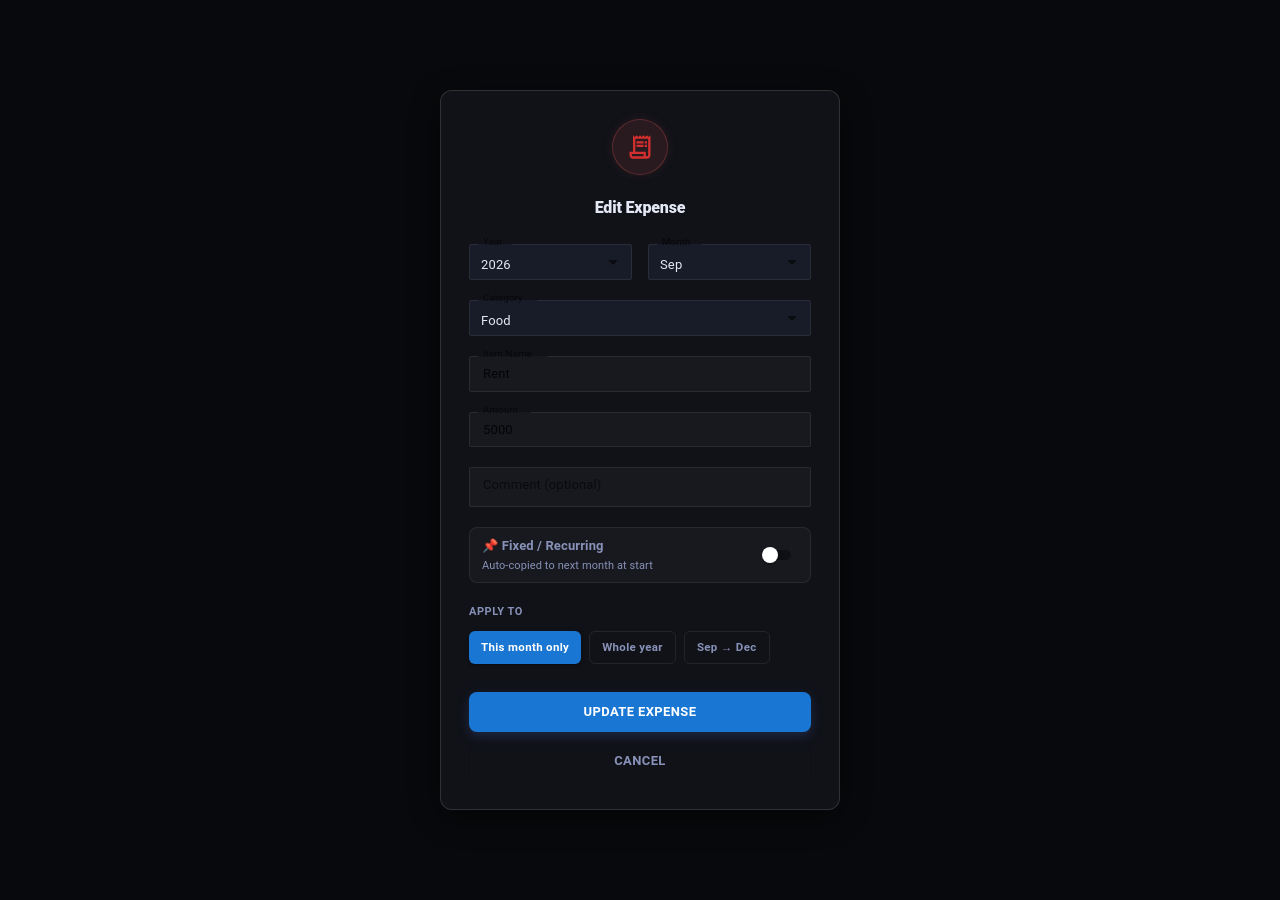
Test: AddExpenseModal amount expressions › says so when the field cannot be read, rather than saving zero
Replace the text in the field labelled "Amount" with "1+2+3": x=640, y=429 [469,412,811,447]
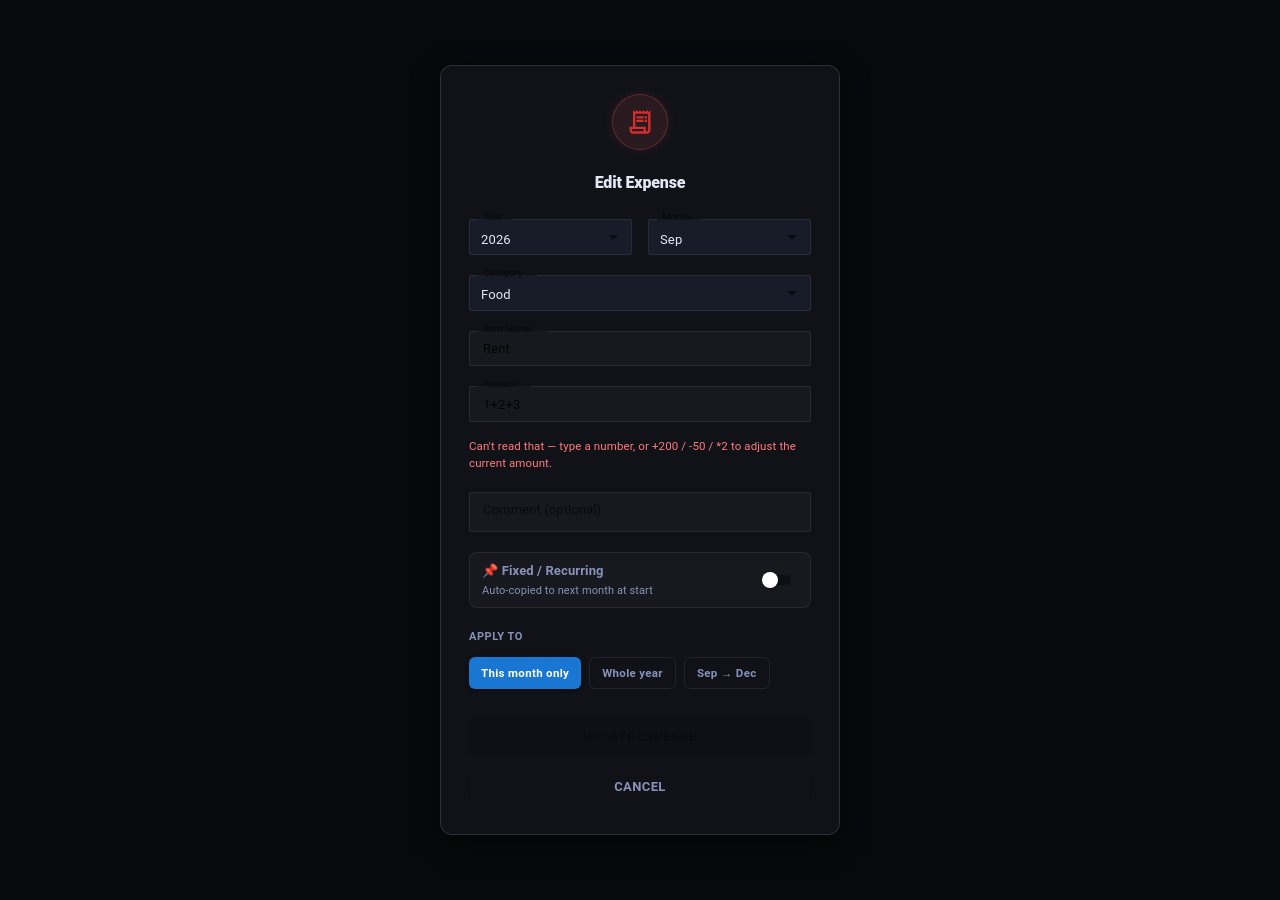
Expected: the text "Can't read that" is shown, [469,439,796,470]
